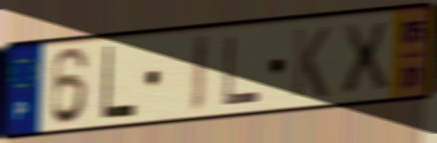6: (49, 44, 90, 128)
I: (189, 31, 210, 117)
K: (289, 25, 332, 101)
L: (221, 34, 263, 109), (99, 43, 138, 122)
X: (339, 18, 393, 99)
